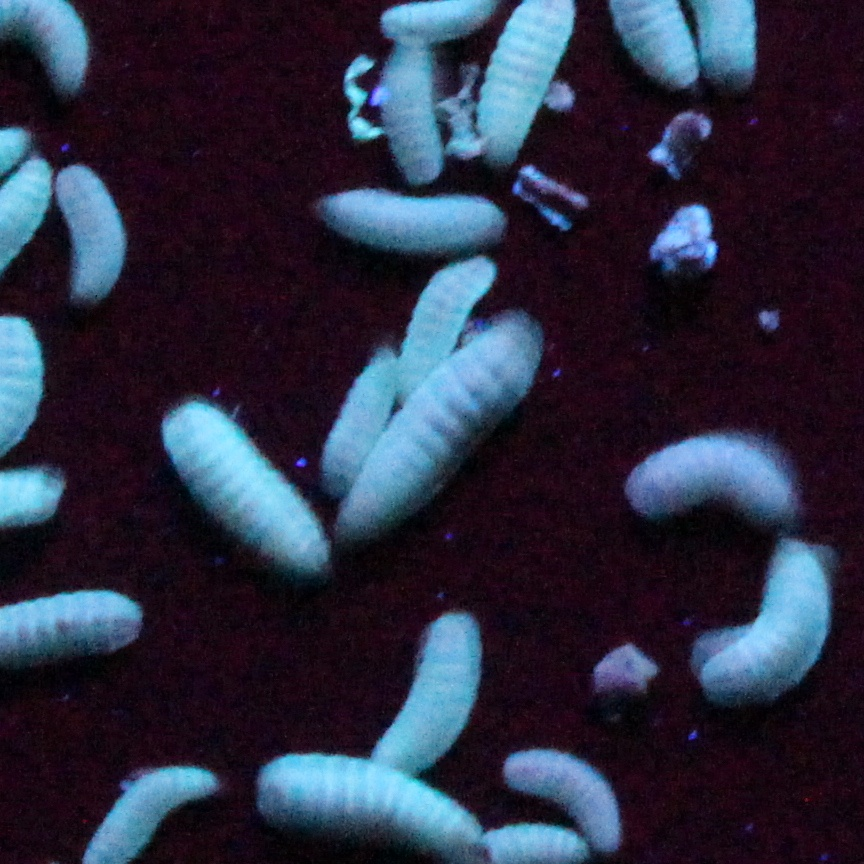larve: (341, 322, 538, 531), (172, 400, 326, 573), (612, 426, 806, 533), (706, 540, 826, 706), (375, 614, 472, 760), (323, 185, 509, 254), (400, 265, 491, 401), (499, 752, 626, 849), (59, 163, 130, 303), (375, 54, 446, 185)
